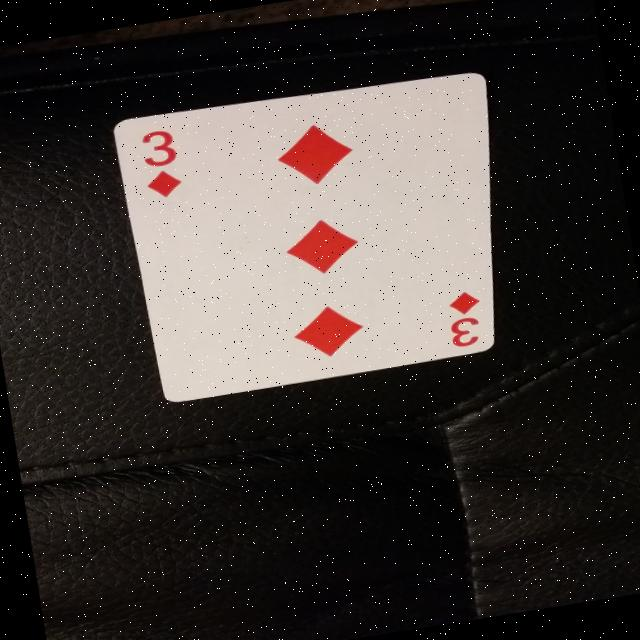3d: (125, 117, 201, 210), (432, 284, 495, 356)
